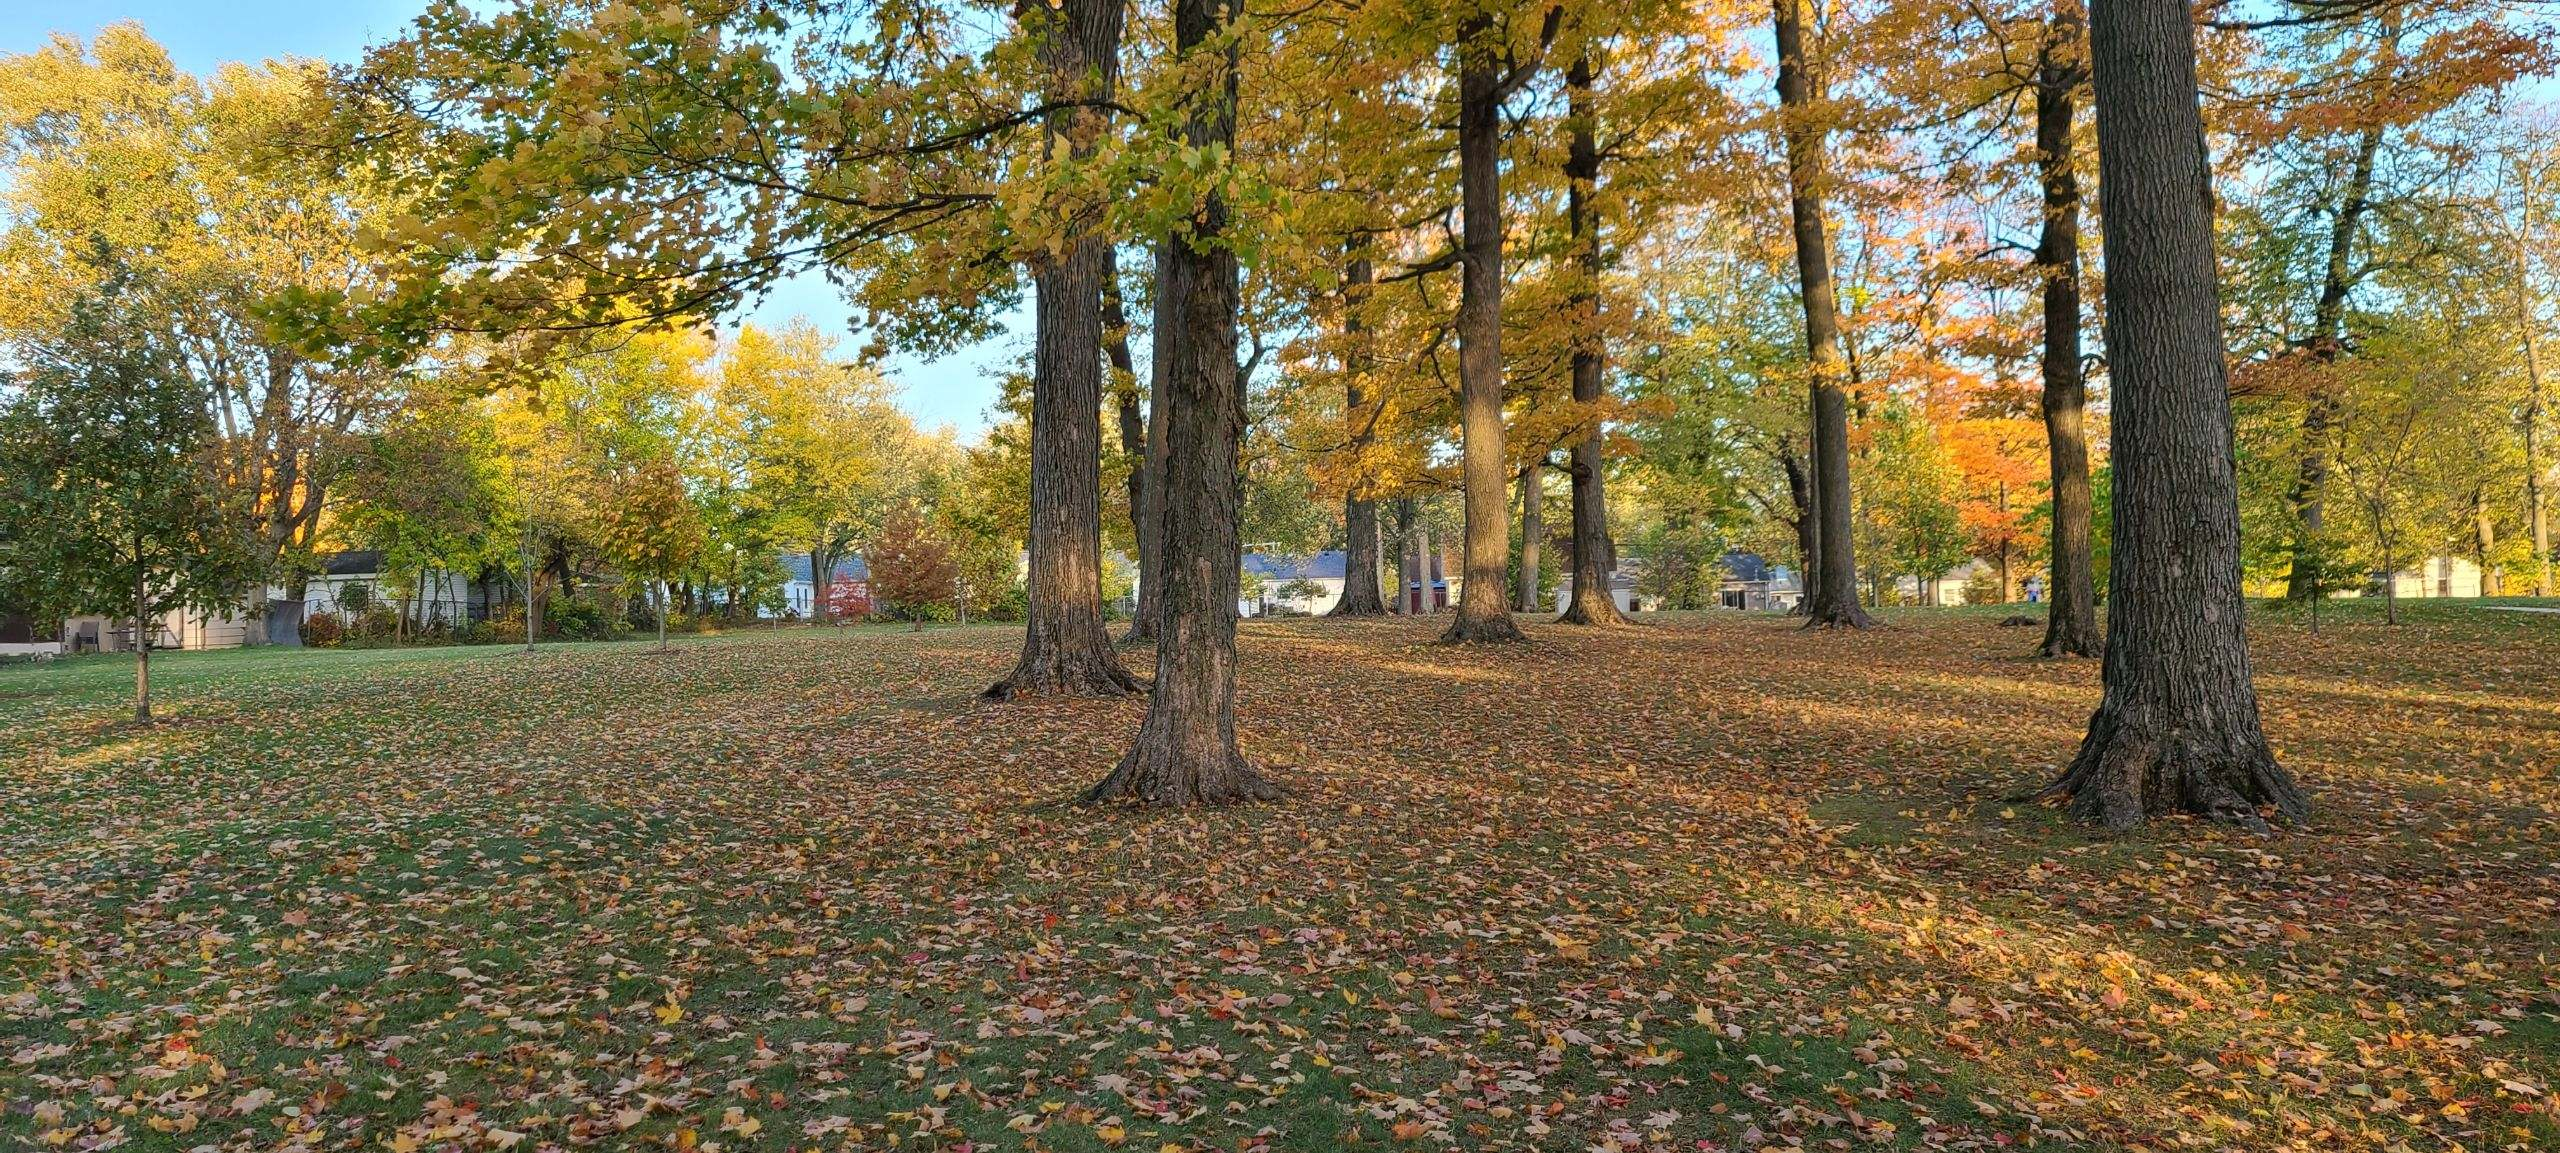tree: (2056, 2, 2296, 815), (1100, 2, 1277, 813), (1007, 2, 1136, 702), (2282, 2, 2420, 634), (1762, 2, 1881, 629), (2011, 2, 2108, 660), (82, 296, 207, 719), (1450, 2, 1515, 648), (1332, 2, 1384, 625), (1566, 2, 1615, 625), (475, 390, 570, 660), (635, 479, 692, 658)
